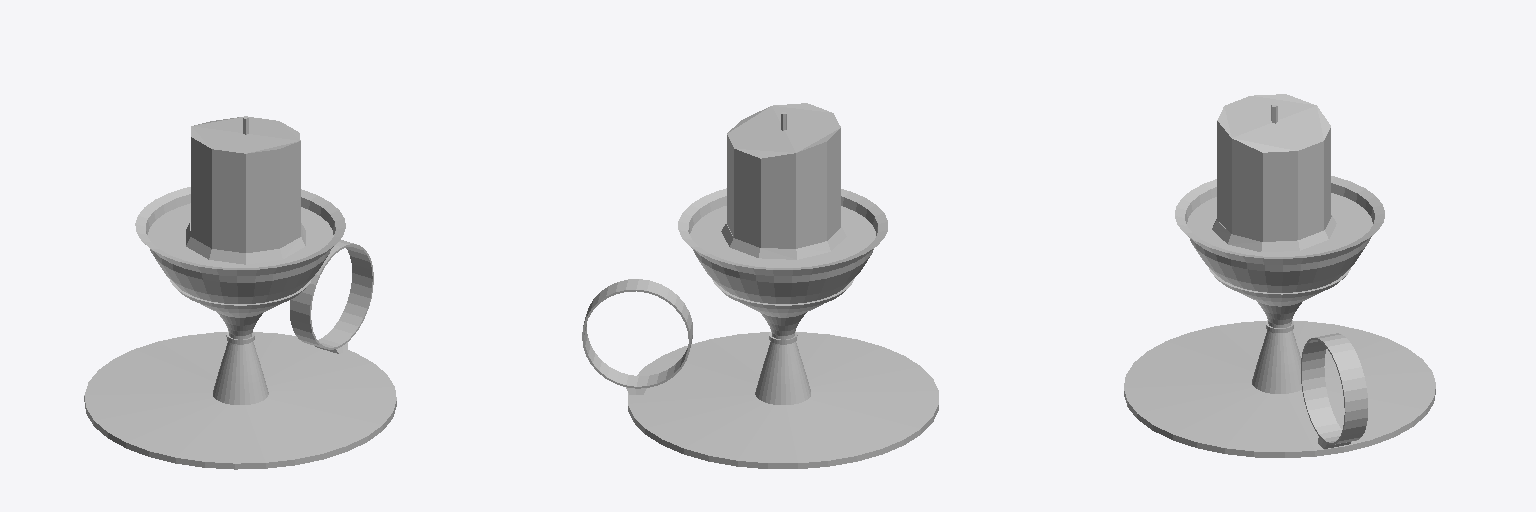
The model's file is vela.obj.
The picture shows the model from 3 angles: view 1: azimuth 30°, elevation 25°; view 2: azimuth 150°, elevation 25°; view 3: azimuth 270°, elevation 25°; orthographic projection.
Visible parts, largest first — view 1: Vela_Cilindro.002; view 2: Vela_Cilindro.002; view 3: Vela_Cilindro.002.
Part boxes in pixels (bbox=[...]): Vela_Cilindro.002: bbox=[84, 116, 396, 469]; Vela_Cilindro.002: bbox=[582, 103, 938, 468]; Vela_Cilindro.002: bbox=[1124, 94, 1435, 457].
Bounding box in the file's own units: 0.4526 × 0.4127 × 0.4065.